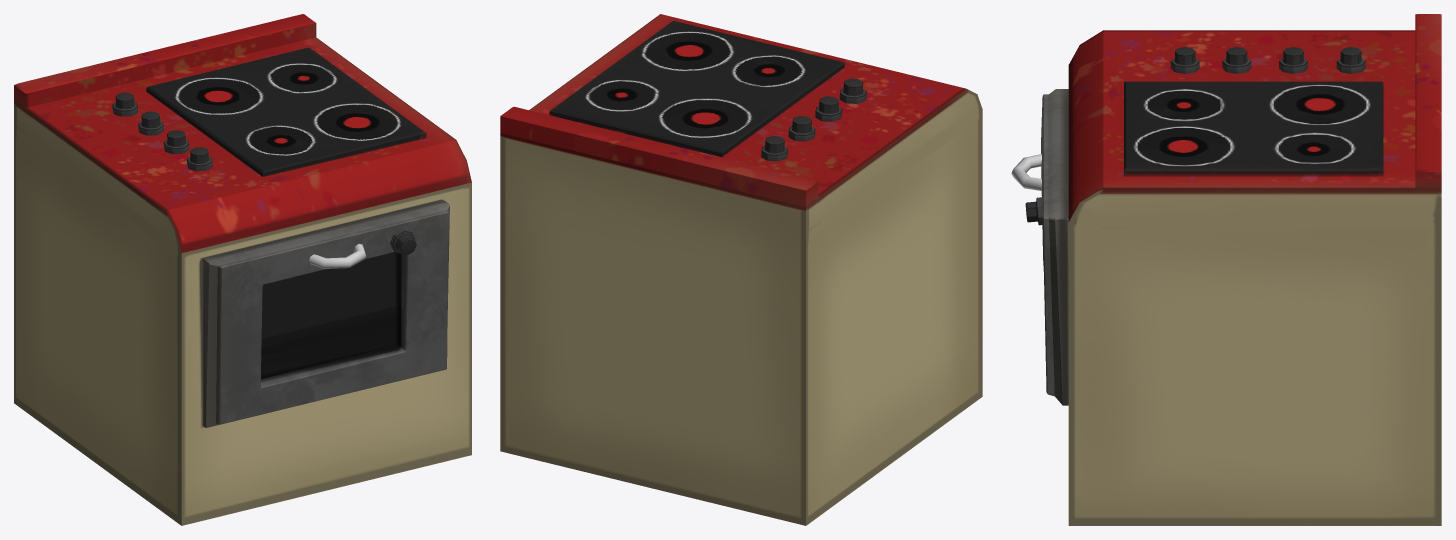
Rendered from Stove.fbx.
3 views of the same model, side by side, from view 1: azimuth 30°, elevation 25°; view 2: azimuth 150°, elevation 25°; view 3: azimuth 270°, elevation 25° (orthographic). The views are drawn at different scales.
Visible parts, largest first — view 1: Cabinetstove5; view 2: Cabinetstove5; view 3: Cabinetstove5.
Part boxes in pixels (x1=…): Cabinetstove5: x1=14, y1=14, x2=471, y2=525; Cabinetstove5: x1=500, y1=14, x2=982, y2=525; Cabinetstove5: x1=1011, y1=14, x2=1441, y2=525.
Size of the model in its own units: 5.63 by 5.93 by 6.5.
